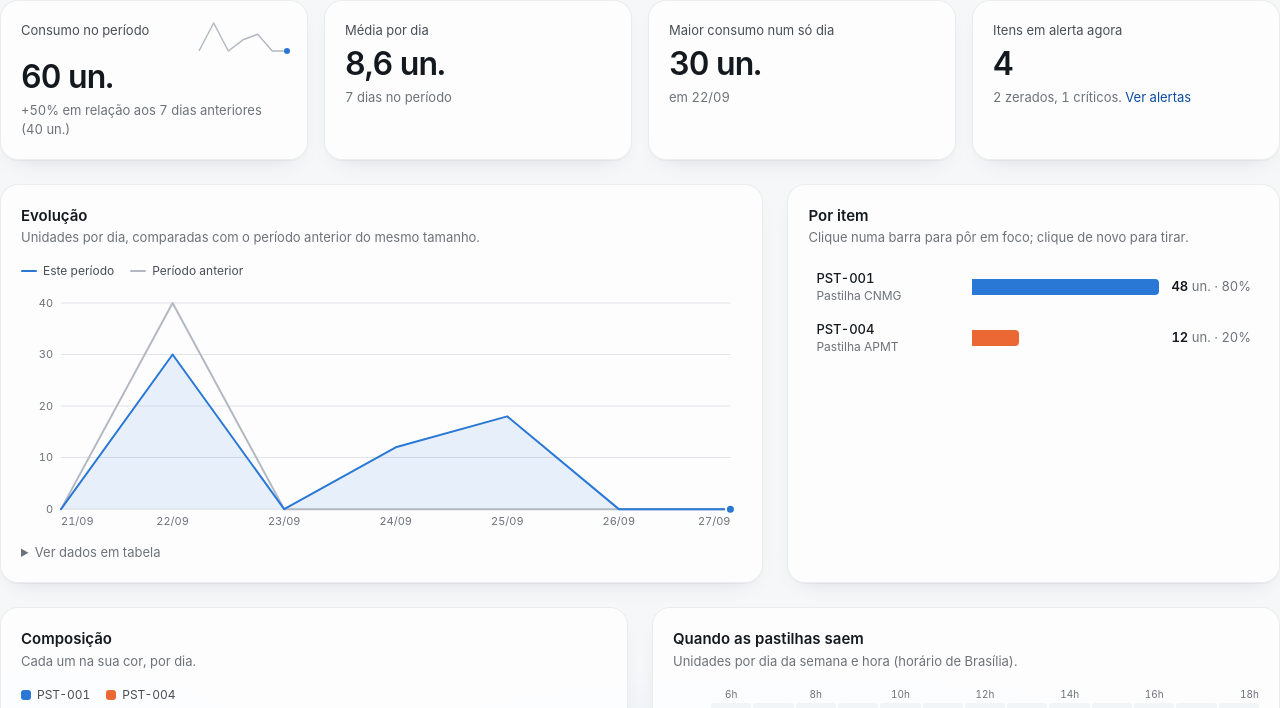
Test case: RF-17a · Painel de análise › clicar de novo na mesma barra também tira o foco
Click the button "PST-001 Pastilha CNMG 48 un. · 80%": click(1034, 287) [808,263,1259,310]
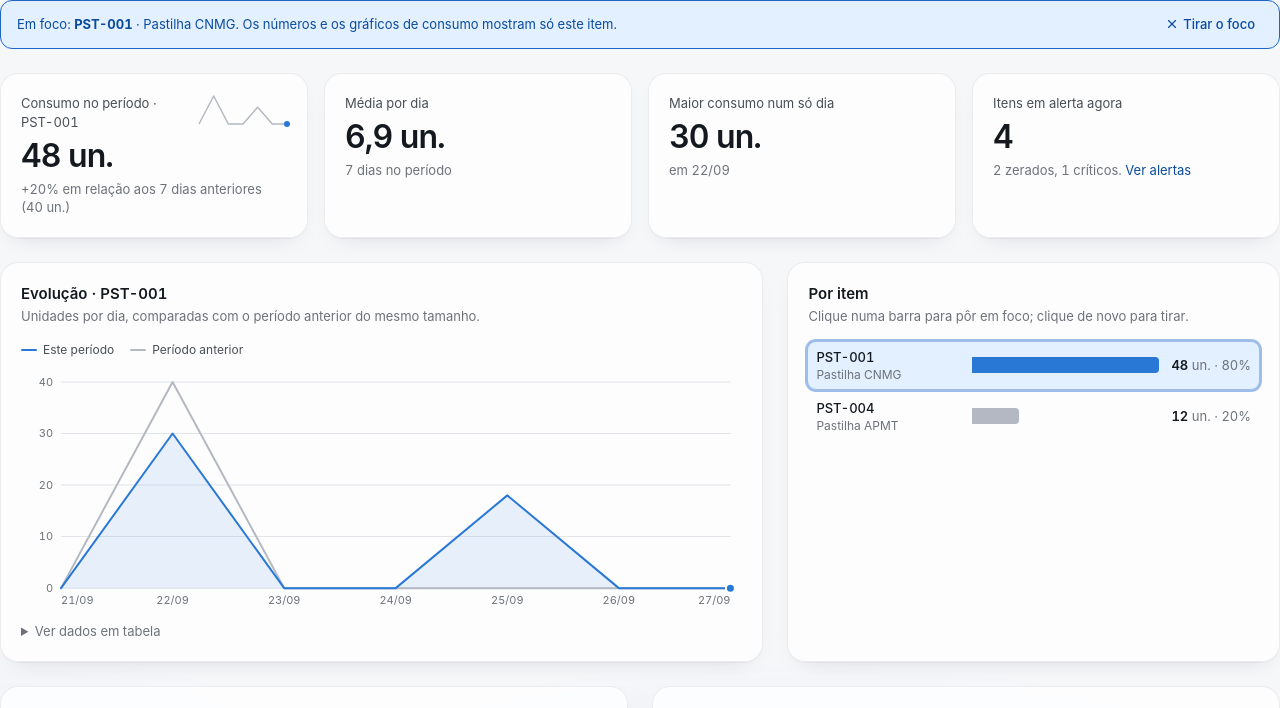
Click the button "PST-001 Pastilha CNMG 48 un. · 80%": click(1034, 365) [808,342,1259,389]
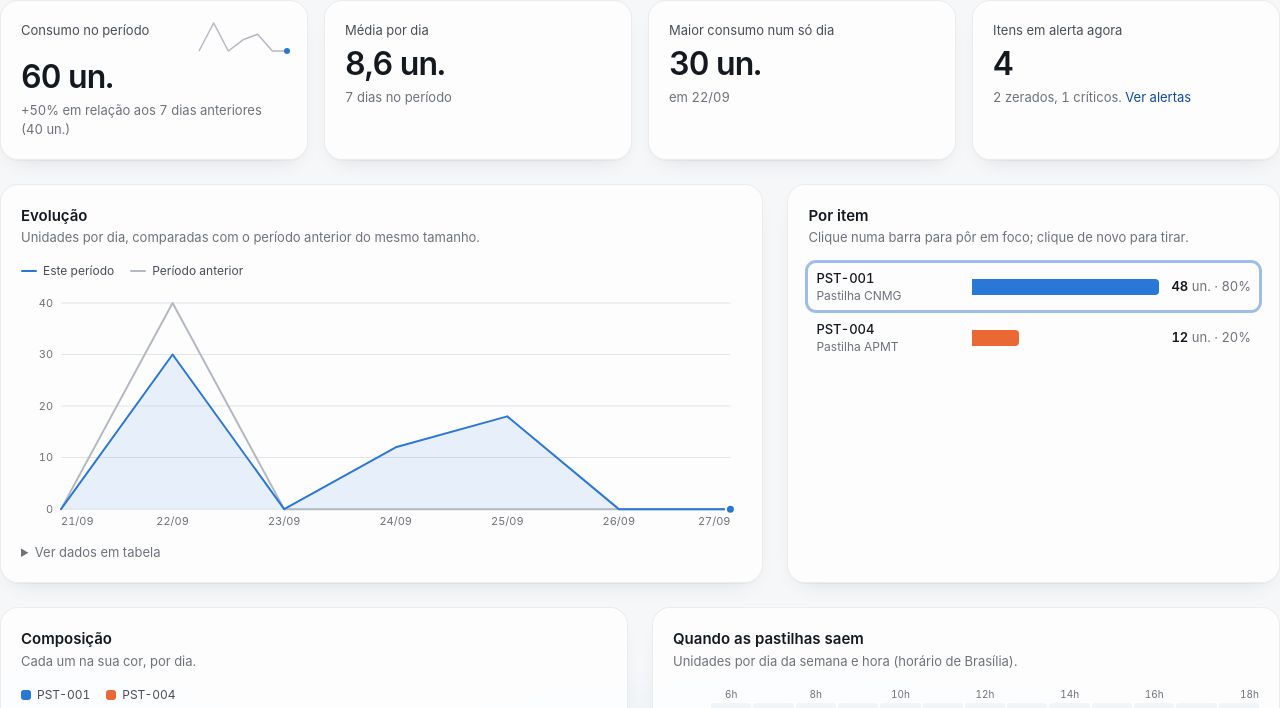
Now the message is gone
